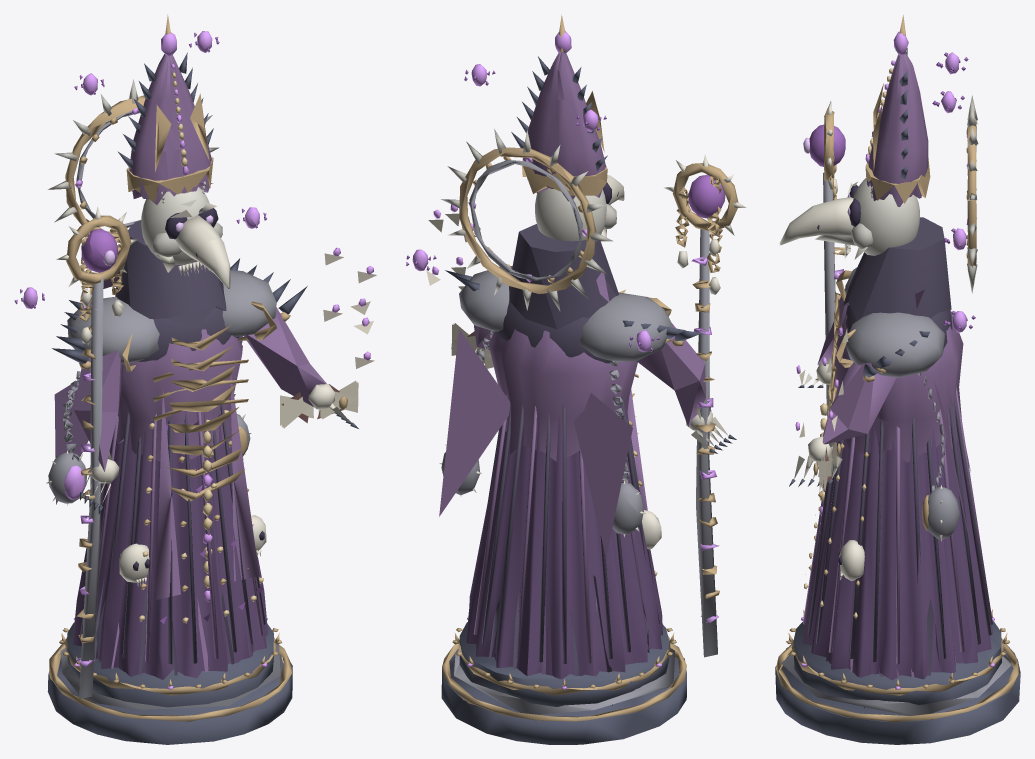
The model's file is fou_archiveque.fbx.
The picture shows the model from 3 angles, left to right: view 1: azimuth 30°, elevation 25°; view 2: azimuth 150°, elevation 25°; view 3: azimuth 270°, elevation 25°; orthographic projection.
Parts seen in each view (by area): view 1: 10_robe_main_velvet_sculpt, 11_robe_mantle_sculpt, 01_pedestal_low, 55_mitre_vault_sculpt, 26_hood_neck_ring, 03_pedestal_plinth, 70_staff_shaft, 30_sleeve_1, 21_shoulder_pauldron_-1, 12_tabard_side_-1, 21_shoulder_pauldron_1, 30_sleeve_-1 (+23 smaller); view 2: 10_robe_main_velvet_sculpt, 11_robe_mantle_sculpt, 01_pedestal_low, 26_hood_neck_ring, 25_side_mantle_1, 55_mitre_vault_sculpt, 03_pedestal_plinth, 25_side_mantle_-1, 70_staff_shaft, 21_shoulder_pauldron_-1, 65_cursed_halo_back, 30_sleeve_-1 (+20 smaller); view 3: 10_robe_main_velvet_sculpt, 01_pedestal_low, 26_hood_neck_ring, 11_robe_mantle_sculpt, 03_pedestal_plinth, 55_mitre_vault_sculpt, 21_shoulder_pauldron_1, 30_sleeve_1, 40_skull_cranium, 05_pedestal_inlay_low, 47_hooked_plague_beak, 02_pedestal_trim (+25 smaller).
Part boxes in pixels (bbox=[...]): 10_robe_main_velvet_sculpt: bbox=[72, 412, 268, 679]; 11_robe_mantle_sculpt: bbox=[111, 329, 242, 461]; 01_pedestal_low: bbox=[47, 654, 292, 744]; 55_mitre_vault_sculpt: bbox=[129, 54, 211, 204]; 26_hood_neck_ring: bbox=[115, 220, 226, 329]; 03_pedestal_plinth: bbox=[67, 622, 273, 707]; 70_staff_shaft: bbox=[79, 277, 103, 698]; 30_sleeve_1: bbox=[243, 307, 326, 407]; 21_shoulder_pauldron_-1: bbox=[67, 297, 159, 364]; 12_tabard_side_-1: bbox=[155, 389, 180, 599]; 21_shoulder_pauldron_1: bbox=[222, 270, 276, 337]; 30_sleeve_-1: bbox=[74, 350, 123, 471]; 10_robe_main_velvet_sculpt: bbox=[466, 411, 662, 679]; 11_robe_mantle_sculpt: bbox=[488, 329, 637, 461]; 01_pedestal_low: bbox=[441, 649, 686, 744]; 26_hood_neck_ring: bbox=[509, 224, 618, 329]; 25_side_mantle_1: bbox=[439, 329, 510, 516]; 55_mitre_vault_sculpt: bbox=[522, 52, 605, 201]; 03_pedestal_plinth: bbox=[459, 622, 669, 706]; 25_side_mantle_-1: bbox=[574, 393, 632, 557]; 70_staff_shaft: bbox=[696, 229, 717, 657]; 21_shoulder_pauldron_-1: bbox=[579, 292, 672, 361]; 65_cursed_halo_back: bbox=[459, 147, 596, 293]; 30_sleeve_-1: bbox=[636, 323, 711, 426]; 10_robe_main_velvet_sculpt: bbox=[802, 390, 992, 680]; 01_pedestal_low: bbox=[775, 647, 1020, 744]; 26_hood_neck_ring: bbox=[843, 217, 951, 320]; 11_robe_mantle_sculpt: bbox=[834, 310, 963, 462]; 03_pedestal_plinth: bbox=[793, 620, 1001, 705]; 55_mitre_vault_sculpt: bbox=[867, 53, 928, 206]; 21_shoulder_pauldron_1: bbox=[845, 312, 944, 377]; 30_sleeve_1: bbox=[822, 362, 896, 444]; 40_skull_cranium: bbox=[853, 178, 919, 255]; 05_pedestal_inlay_low: bbox=[776, 644, 1019, 722]; 47_hooked_plague_beak: bbox=[779, 197, 853, 245]; 02_pedestal_trim: bbox=[781, 655, 1011, 715].
Bounding box in the file's own units: 102 × 207 × 67.82.
